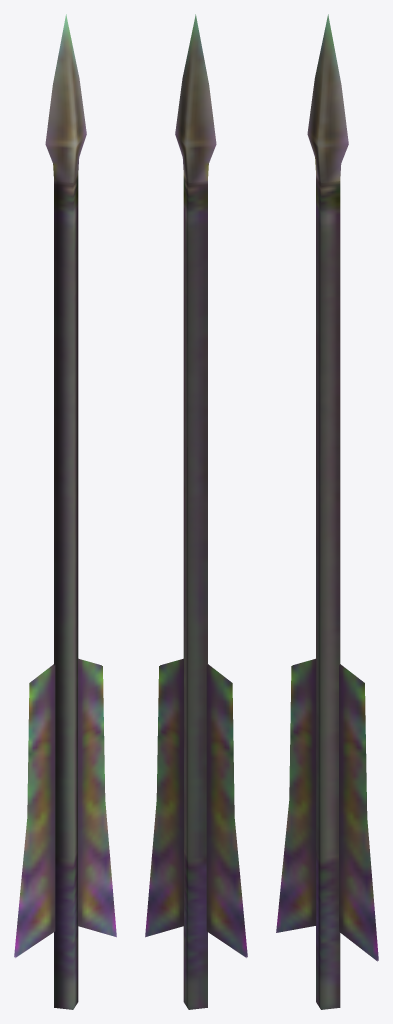
Rendered from Bolt05.FBX.
3 views of the same model, side by side, from view 1: azimuth 30°, elevation 25°; view 2: azimuth 150°, elevation 25°; view 3: azimuth 330°, elevation 25° (orthographic).
Parts seen in each view (by area): view 1: Bolt05; view 2: Bolt05; view 3: Bolt05.
Boxes of the visible parts, x1,y1,x2,y2 form: Bolt05: (14,14,116,1009); Bolt05: (145,14,247,1009); Bolt05: (276,14,378,1009).
Bounding box in the file's own units: 5.46 × 50.81 × 1.76.
